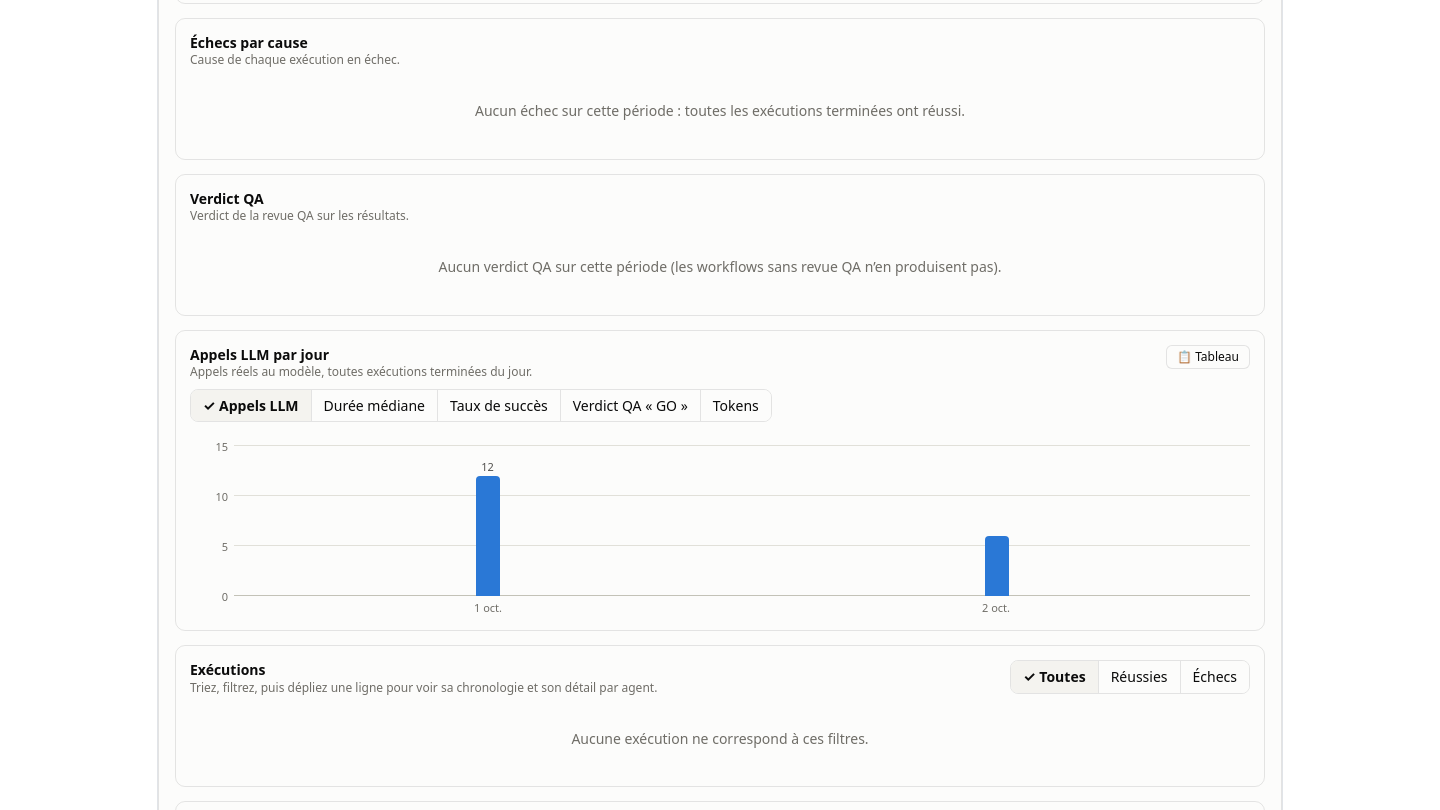
Test: MetricsPanel — tendances quotidiennes › change de métrique : le titre, les valeurs et le tableau suivent
(page scrolled)
Check: the heading "Appels LLM par jour" is shown, box [190,344,329,364]
Click the button "Durée médiane". click: (374, 406)
box: [311,390,437,422]
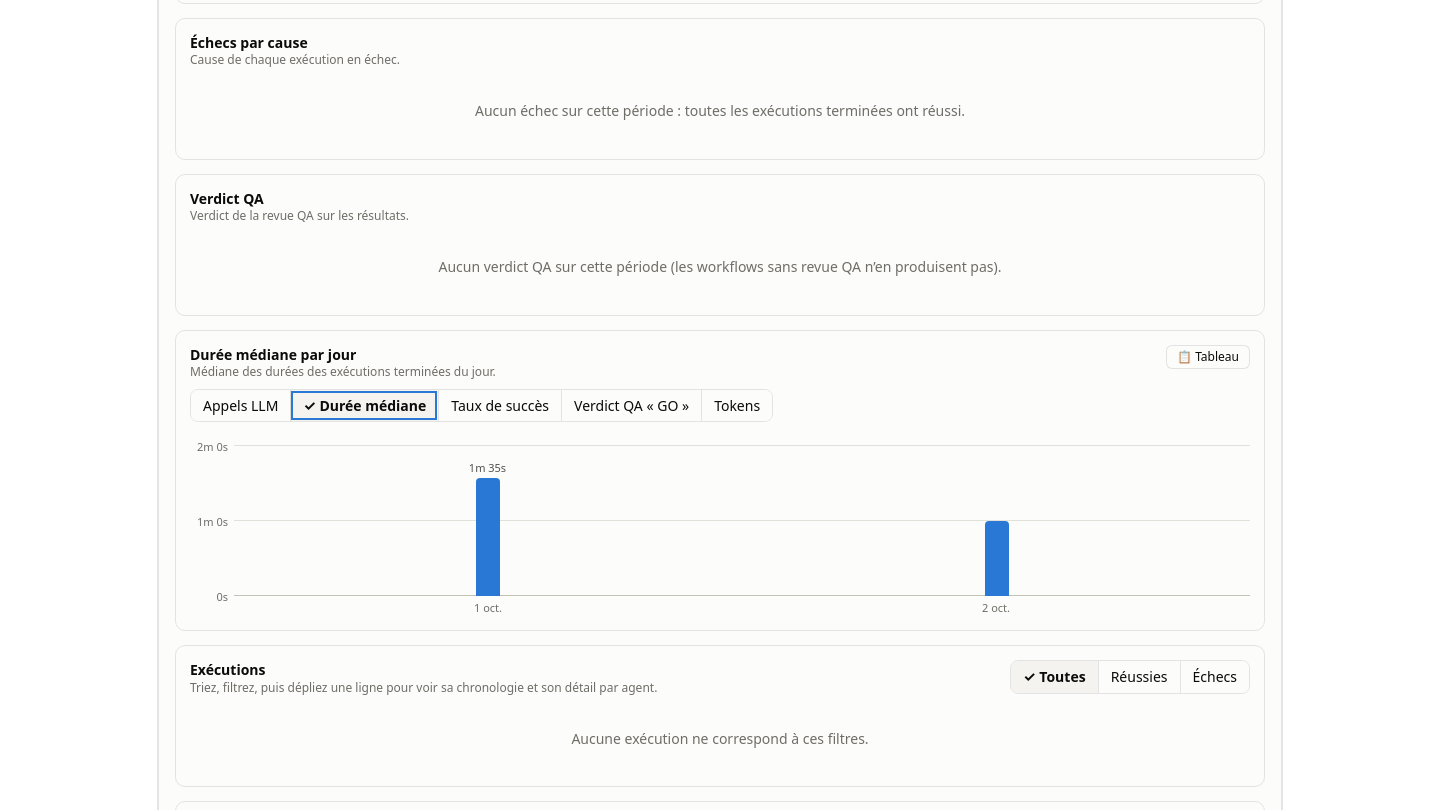
Check: the heading "Durée médiane par jour" is shown, box [190,344,356,364]
Check: the element named "1 oct. : Durée médiane 1m 35s" is shown, box [469,460,506,596]
Click the button "Taux de succès". click: (500, 406)
box: [438,390,561,422]
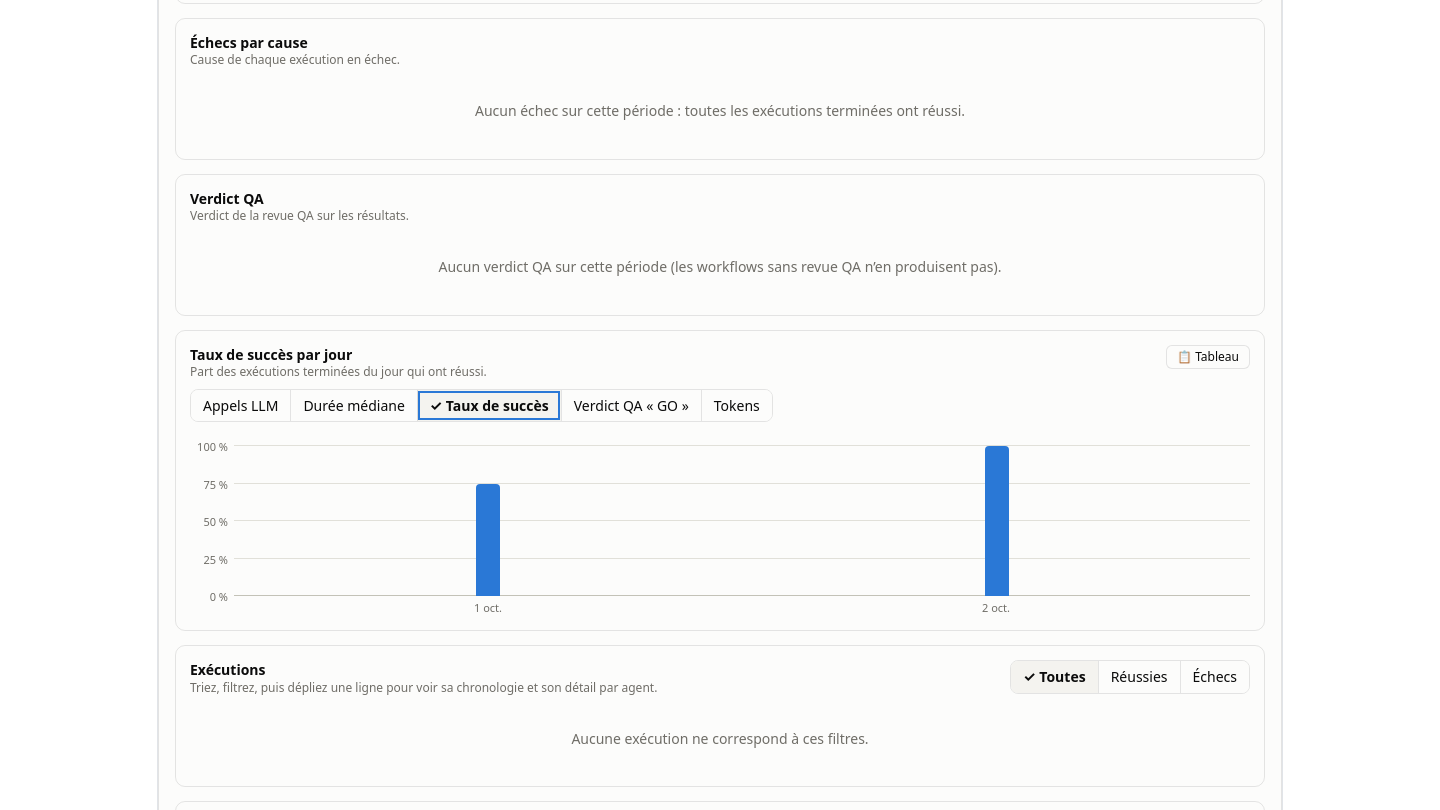
Check: the element named "1 oct. : Taux de succès 75 %" is shown, box [476,484,500,596]
Check: the heading "Taux de succès par jour" is shown, box [190,344,352,364]
Check: the element named "2 oct. : Taux de succès 100 %" is shown, box [984,446,1008,596]
